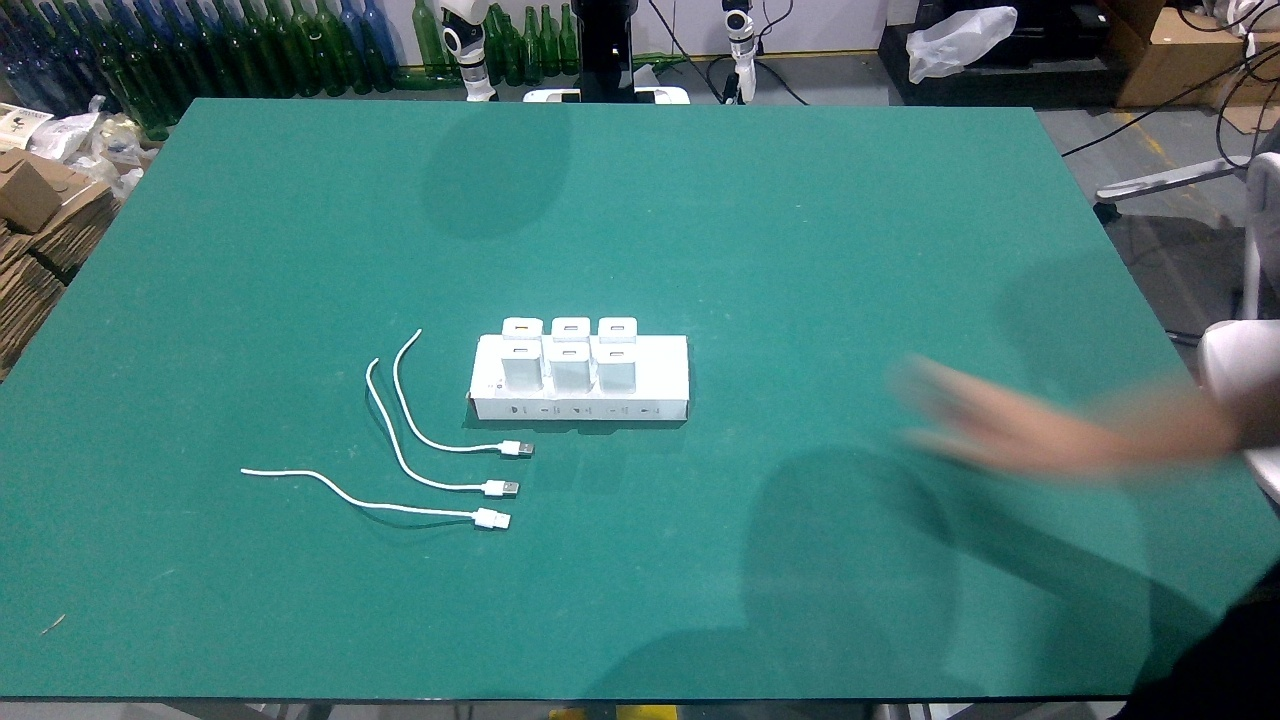usb_a_port: (513, 322, 530, 334), (607, 349, 625, 358), (563, 323, 580, 332), (560, 349, 578, 357), (610, 324, 625, 331), (513, 348, 529, 354)
